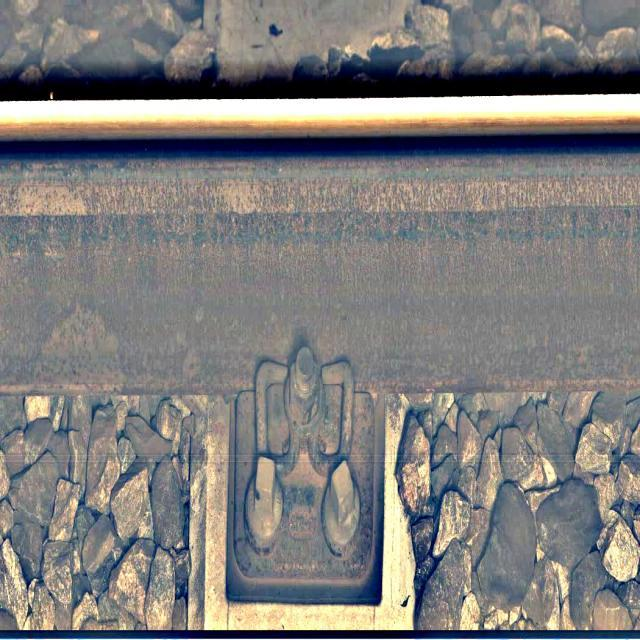Good Fasteners: (229, 345, 374, 601)
